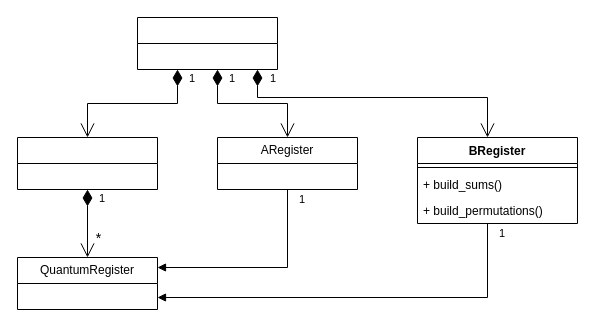
Some shapes in this 595 by 327 pixel diagram are drawn without their labels. Here are the shapes that lost their labels. From the top down, the centre of each, then its label:
At pixel 207 43: "TomaruIntegrator".
At pixel 87 163: "RegisterSet".
